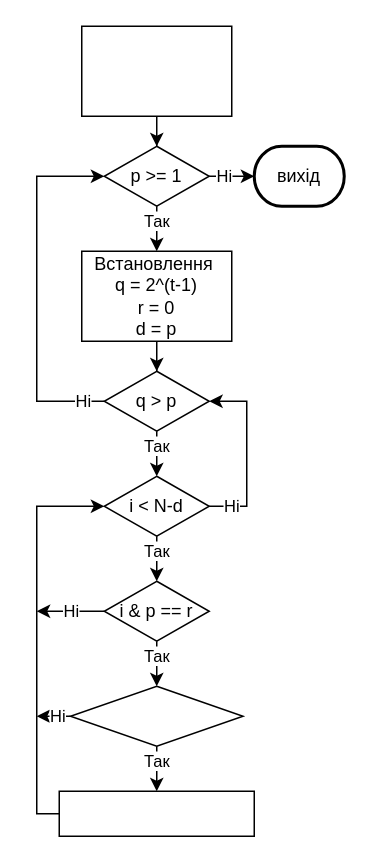
Some shapes in this 372 by 863 pixel diagram are drawn without their labels. The centre of each missing label's shape, as x and y in pixels:
"Ki+1 > Ki+d+1" goes at (x=156, y=715).
"Обмін(R[i+1],R[i+d+1])" goes at (x=156, y=813).
"Початкове встановлення p. p = 2^(t-1) t = lg N" goes at (x=156, y=70).
